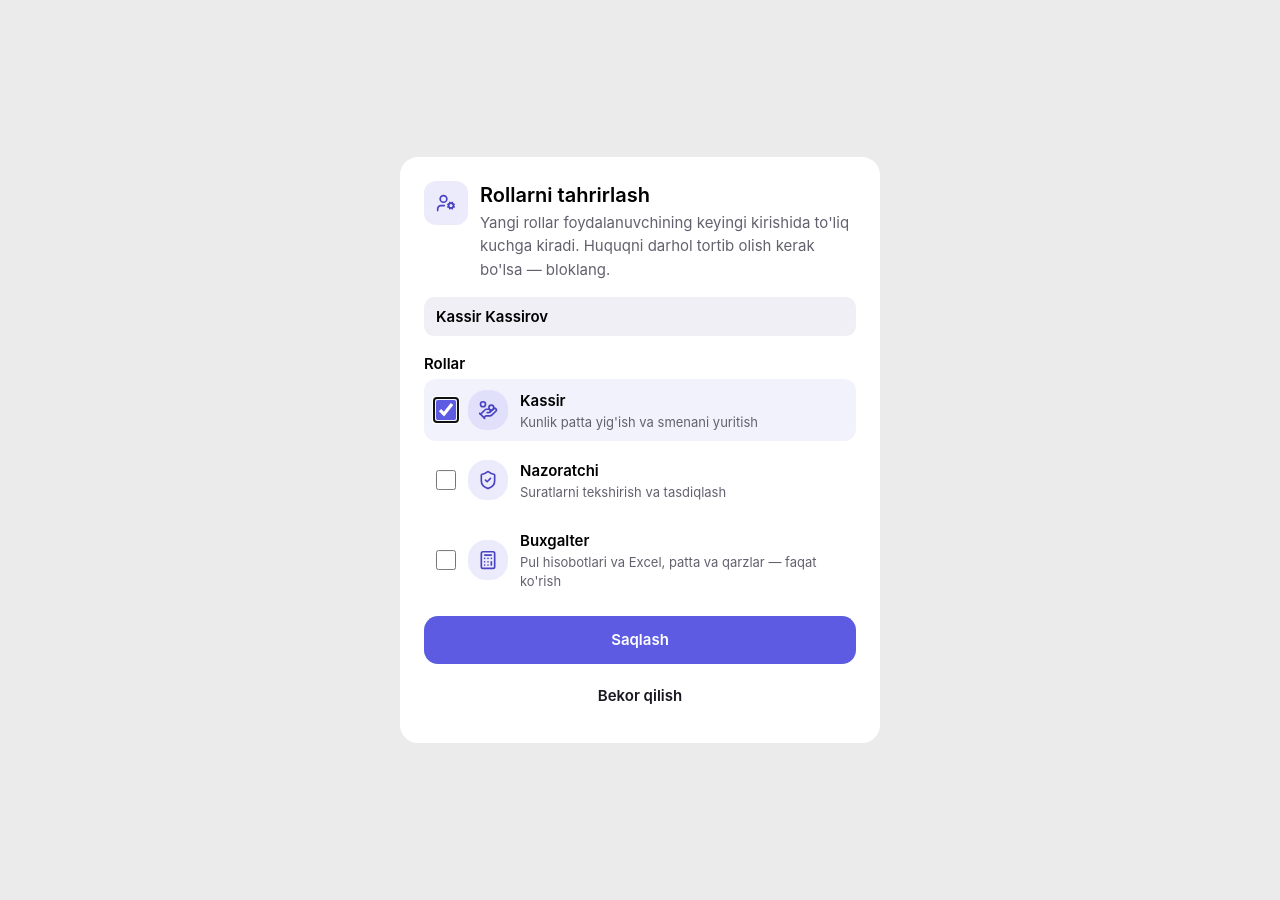
Test: birorta rol tanlanmagan holda saqlash › ⛔ so'rov YUBORILMAYDI va sabab EKRANDA KO'RINADI
Click the checkbox labelled "Kassir".
click(446, 410)  # box [436,400,456,420]
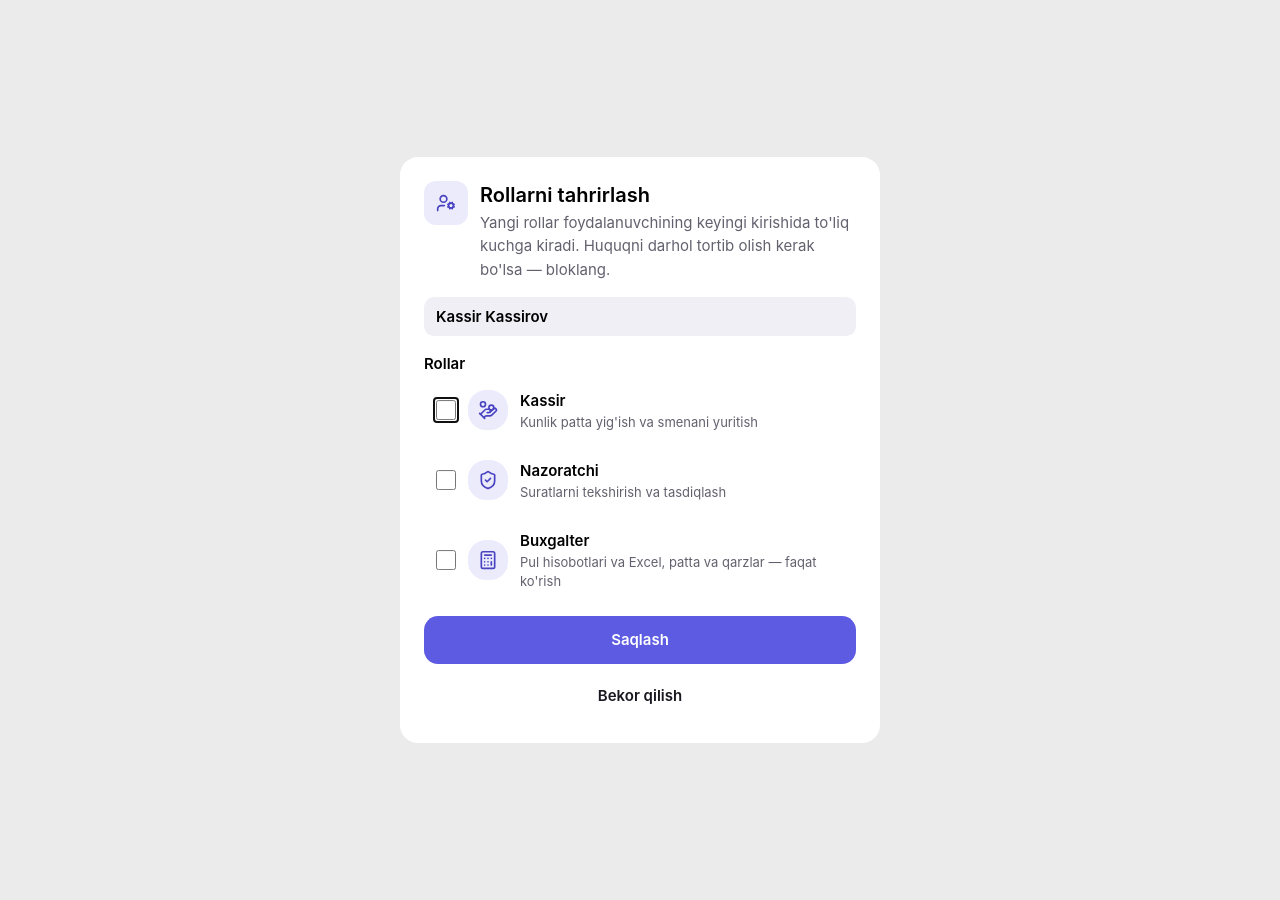
Click the button "Saqlash".
click(640, 640)  # box [424,616,856,664]
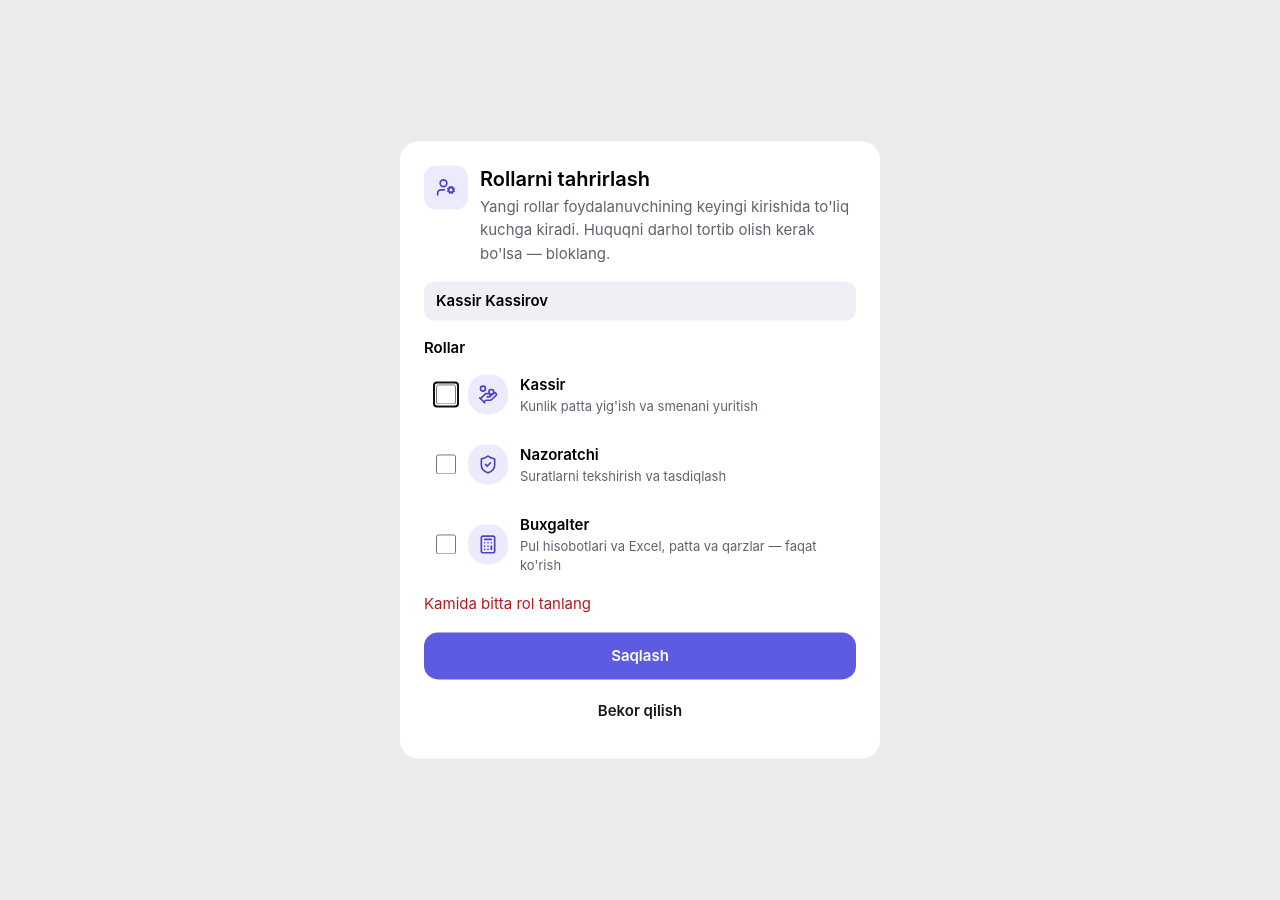
Now the text "Kamida bitta rol tanlang" is shown, box [424,595,591,614]
